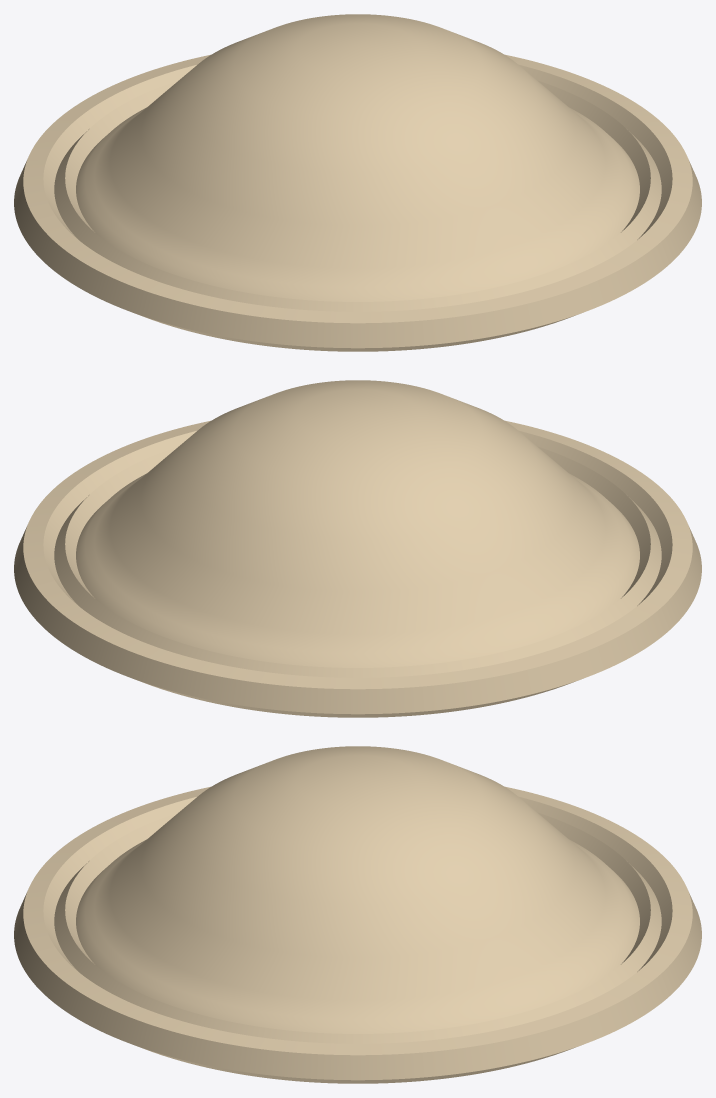
Rendered from dumpling.glb.
3 renders of one model, top to bottom at view 1: azimuth 30°, elevation 25°; view 2: azimuth 150°, elevation 25°; view 3: azimuth 270°, elevation 25°, orthographic.
Visible parts, largest first — view 1: dumpling; view 2: dumpling; view 3: dumpling.
Boxes of the visible parts, x1,y1,x2,y2 form: dumpling: (14, 14, 701, 351); dumpling: (14, 380, 701, 717); dumpling: (14, 746, 701, 1083).
Bounding box in the file's own units: 44.4 × 12.2 × 44.4.
